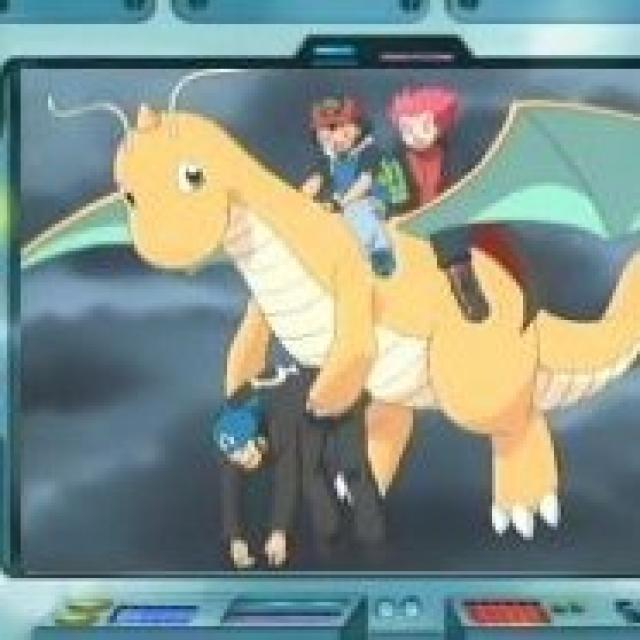Dragonite: (69, 97, 570, 457)
